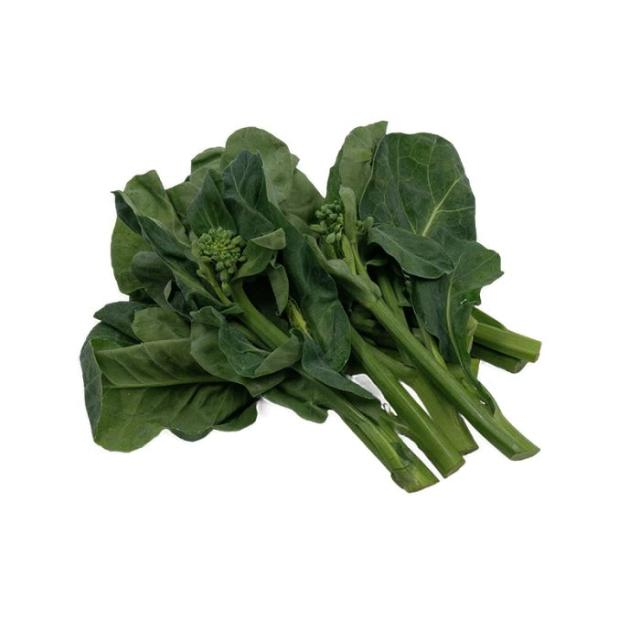collard: (82, 126, 540, 490)
